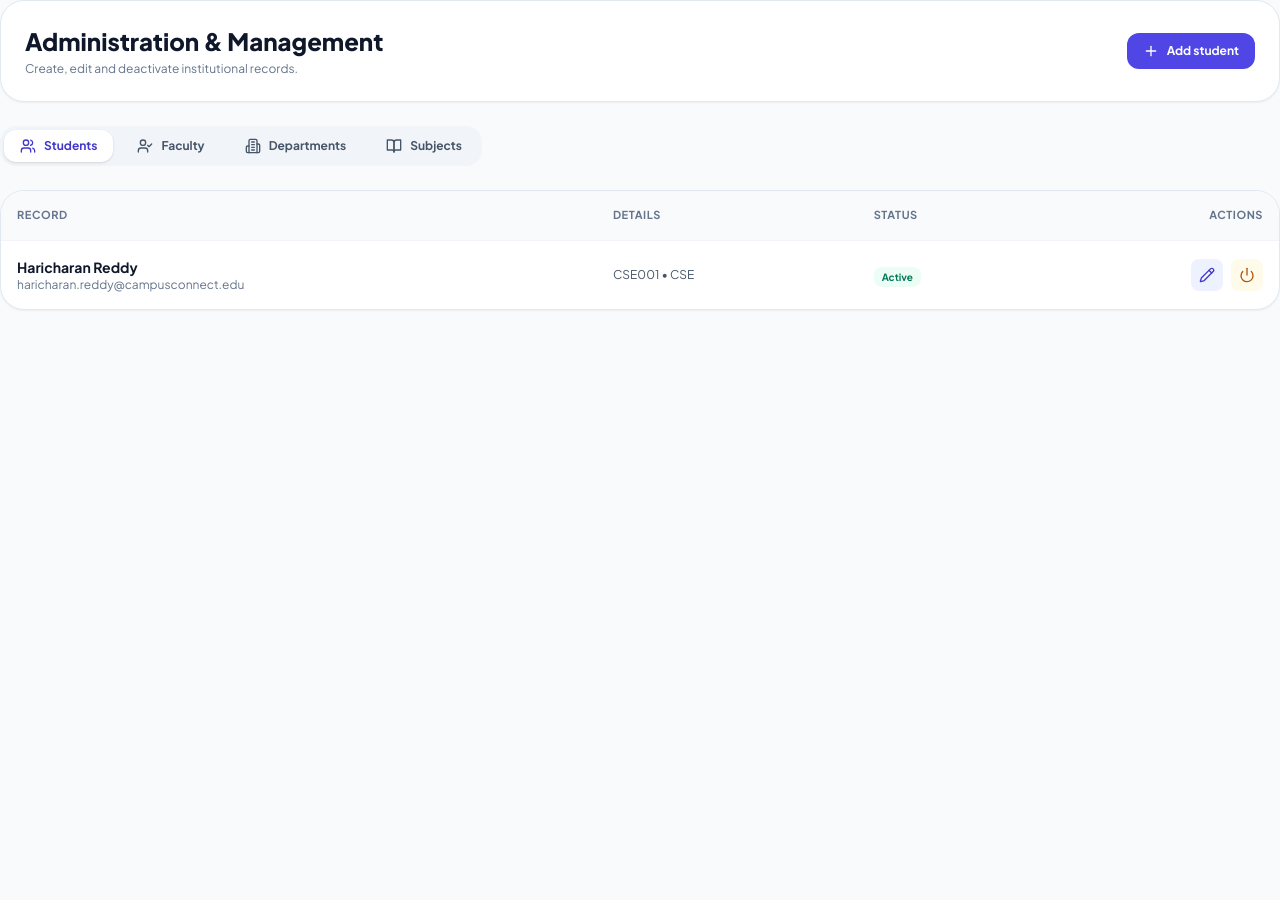
Test: CampusConnect admin management › opens the create form for students
Expected: the text "Haricharan Reddy" is shown, [17,258,138,276]
Click the button "Add student": (1191, 51) [1127,33,1255,69]
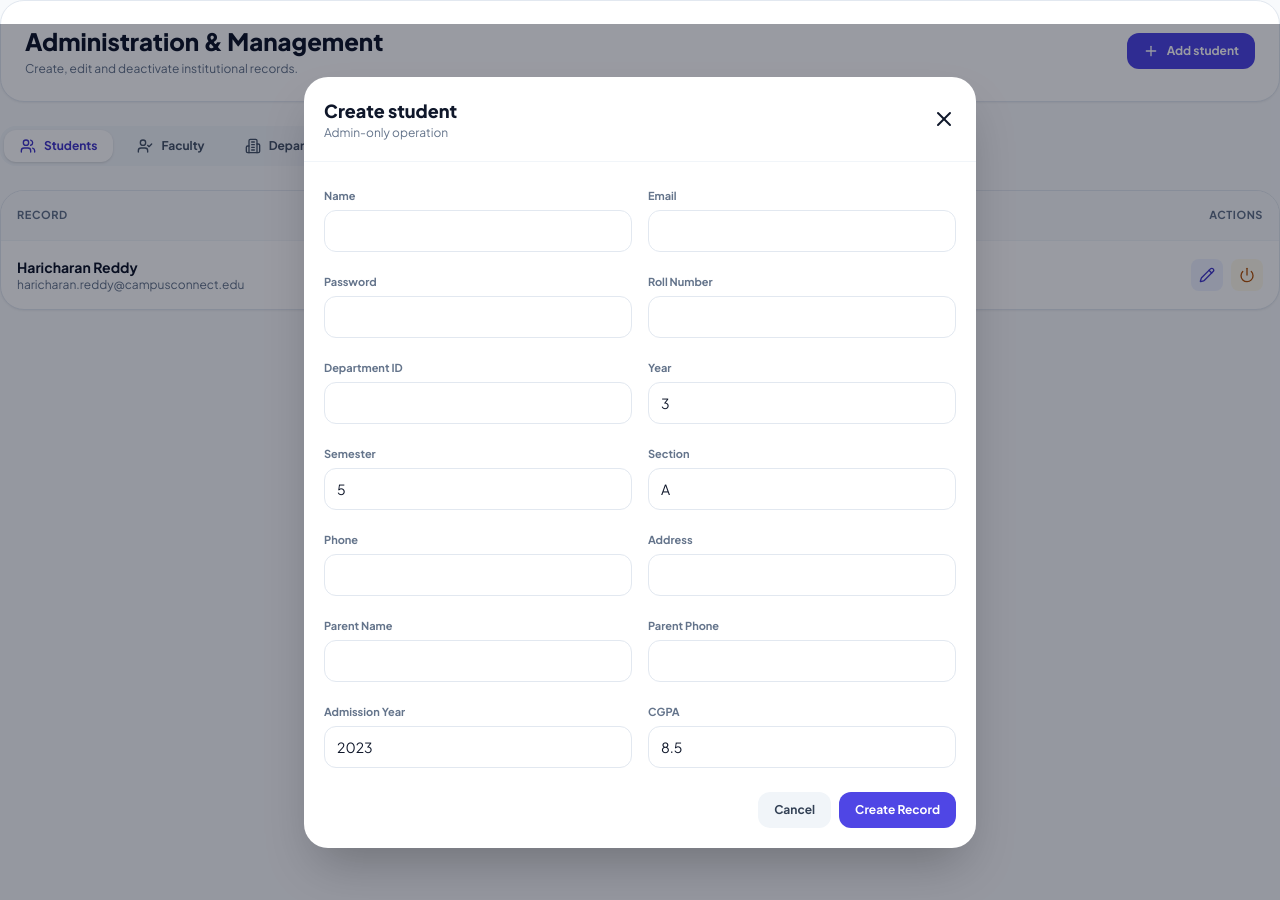
Expected: the heading "Create student" is shown, [324,96,457,124]
Expected: the text "Admin-only operation" is shown, [324,124,457,140]
Expected: the button "Create Record" is shown, [839,792,956,828]
